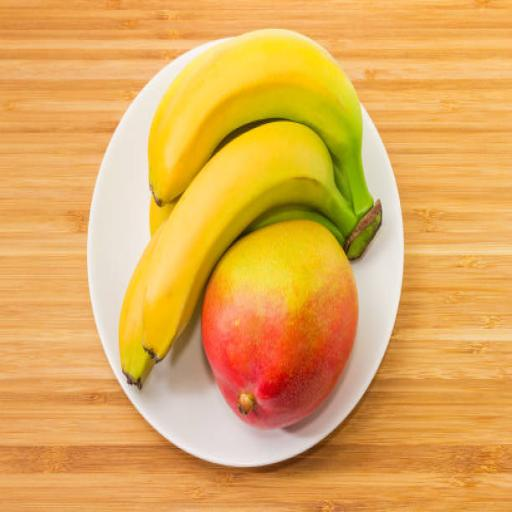banana: (143, 121, 357, 360), (149, 29, 373, 219)
mango: (202, 220, 358, 427)
